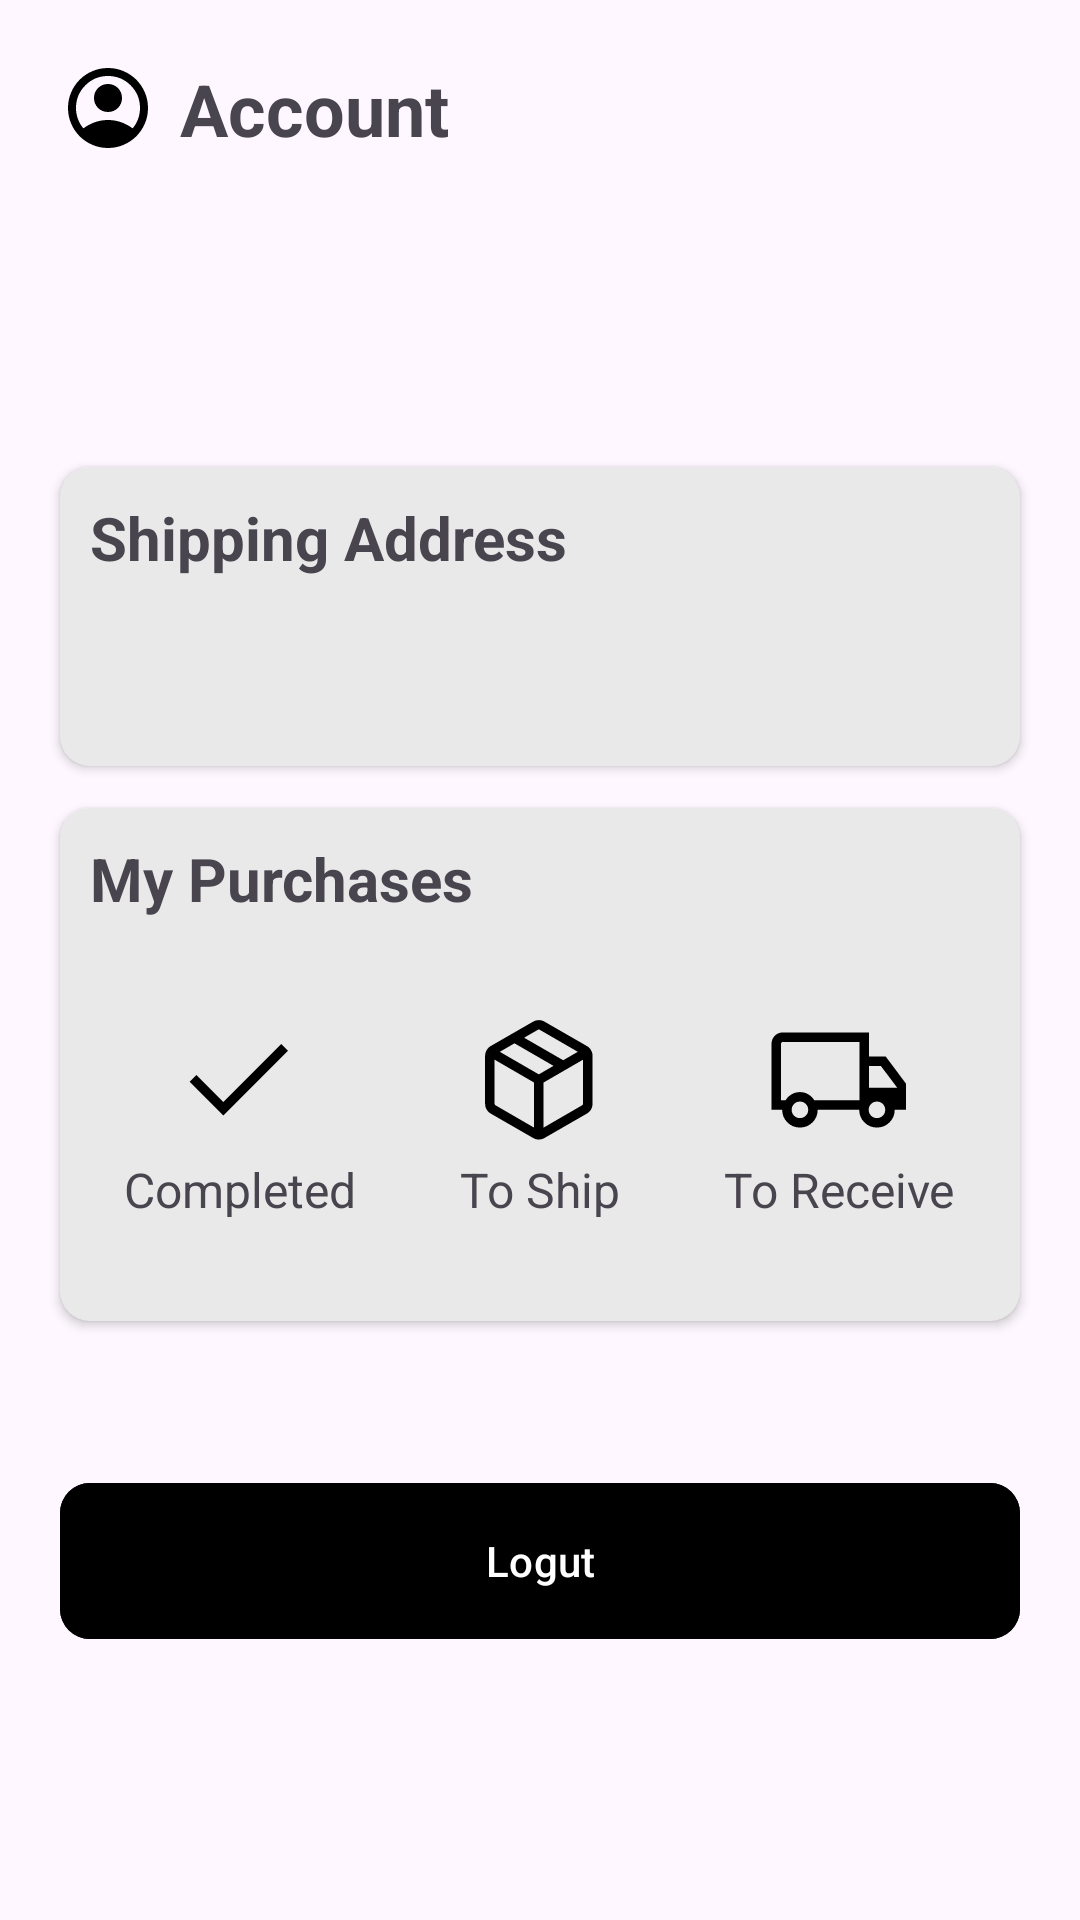

Screen size 1080px×1920px. Icon name, then its center in pixels as point (x, y):
check: point (238, 1080)
package: point (539, 1080)
truck: point (838, 1080)
